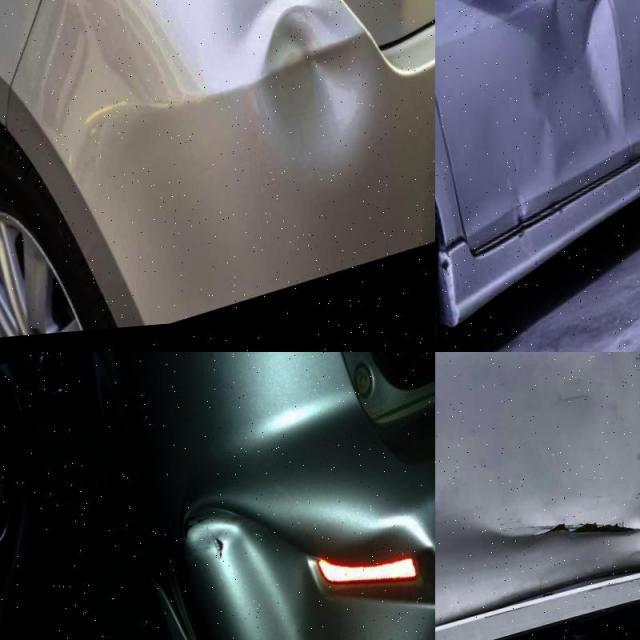car damage: (245, 0, 379, 163), (517, 0, 630, 153), (527, 520, 640, 537), (214, 536, 224, 557)
